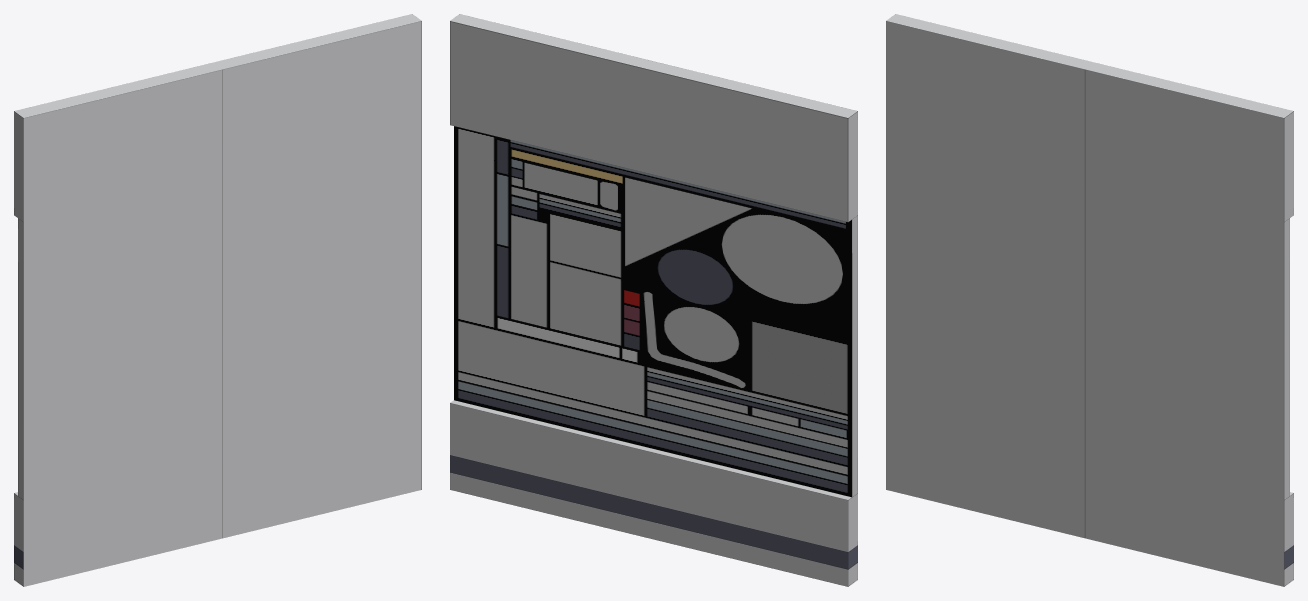
Rendered from Wall_Screen_01.FBX.
3 views of the same model, side by side, from view 1: azimuth 30°, elevation 25°; view 2: azimuth 150°, elevation 25°; view 3: azimuth 330°, elevation 25° (orthographic).
Parts seen in each view (by area): view 1: Wall_Screen_01; view 2: Screen, Wall_Screen_01; view 3: Wall_Screen_01.
Part boxes in pixels (x1,y1,x2,y2): Wall_Screen_01: (14,14,421,586); Screen: (454,126,851,497); Wall_Screen_01: (450,14,857,586); Wall_Screen_01: (886,14,1293,586).
Bounding box in the file's own units: 6 × 6.75 × 0.25.
1 material, 1 textured.
